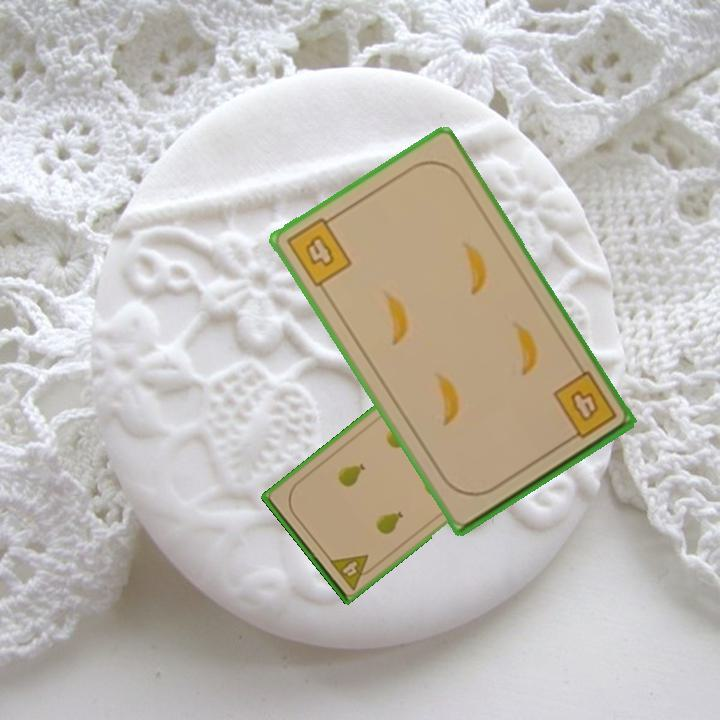4b: (282, 211, 355, 290), (549, 367, 619, 446)
4p: (326, 550, 378, 593)
